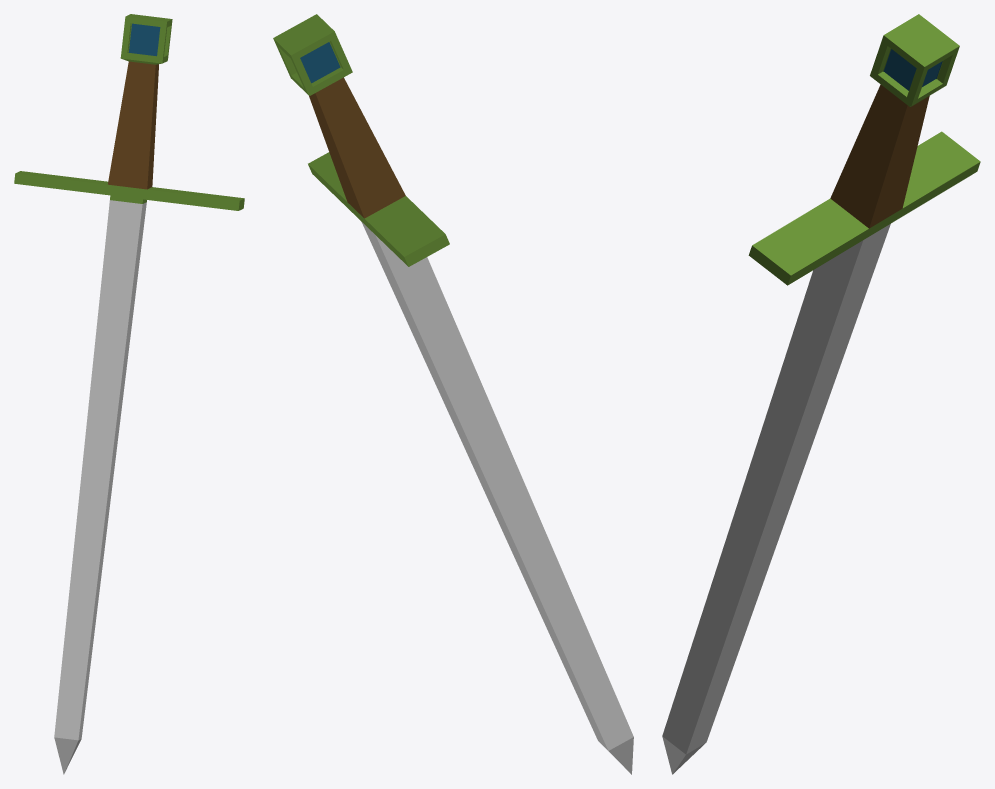
File: Sword.glb
3 renders of one model, left to right at view 1: azimuth 30°, elevation 25°; view 2: azimuth 150°, elevation 25°; view 3: azimuth 270°, elevation 25°, orthographic. The views are drawn at different scales.
Visible parts, largest first — view 1: Sword; view 2: Sword; view 3: Sword.
Boxes of the visible parts, x1,y1,x2,y2 form: Sword: [14, 14, 244, 774]; Sword: [273, 14, 633, 774]; Sword: [662, 14, 980, 774].
Bounding box in the file's own units: 2.2 × 5.93 × 1.99.
Materials: 1 (1 with a texture image).
